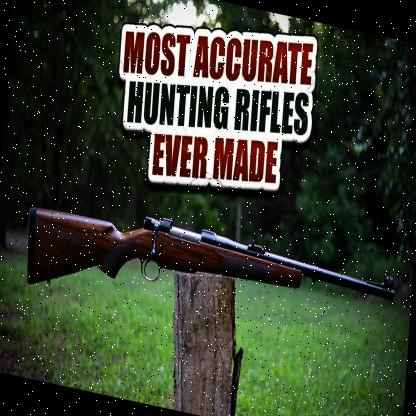rifle: (14, 184, 402, 364)
